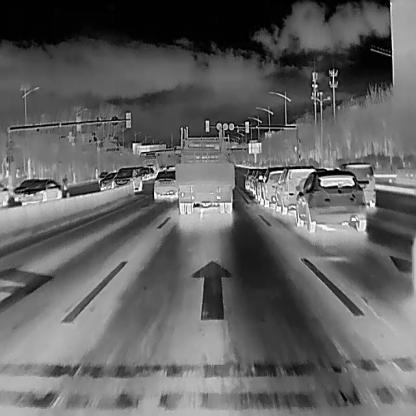car: (292, 169, 366, 232), (272, 164, 316, 213), (334, 160, 376, 207), (256, 164, 290, 206), (22, 176, 64, 205), (9, 174, 41, 202), (153, 167, 178, 200), (113, 166, 143, 193), (98, 170, 118, 192), (136, 165, 149, 180), (96, 167, 109, 182)
truck: (177, 134, 235, 213)
